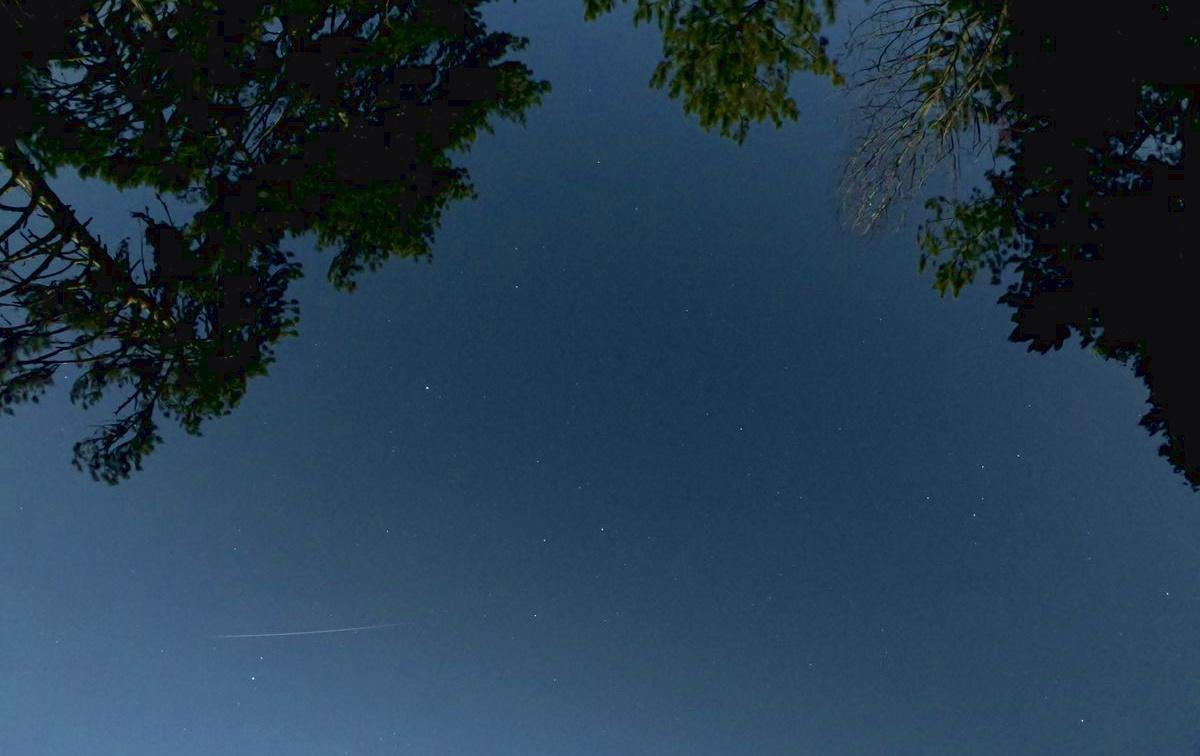meteorite: (185, 615, 438, 668)
